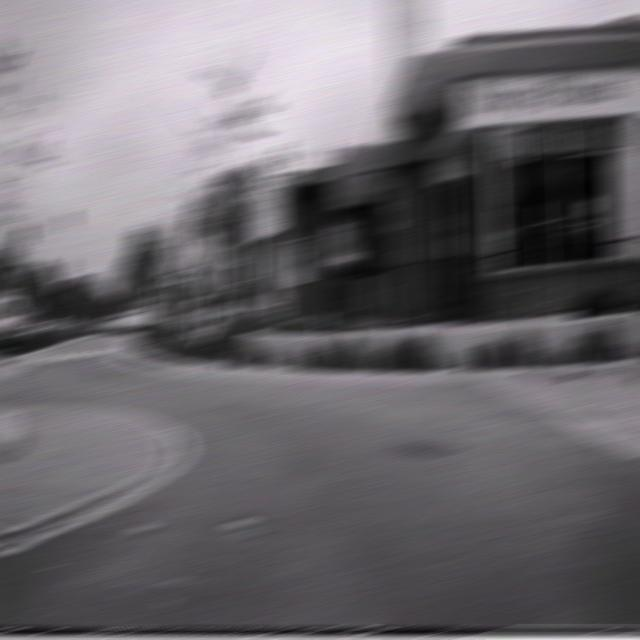pedestrianCrossing: (162, 230, 194, 270)
